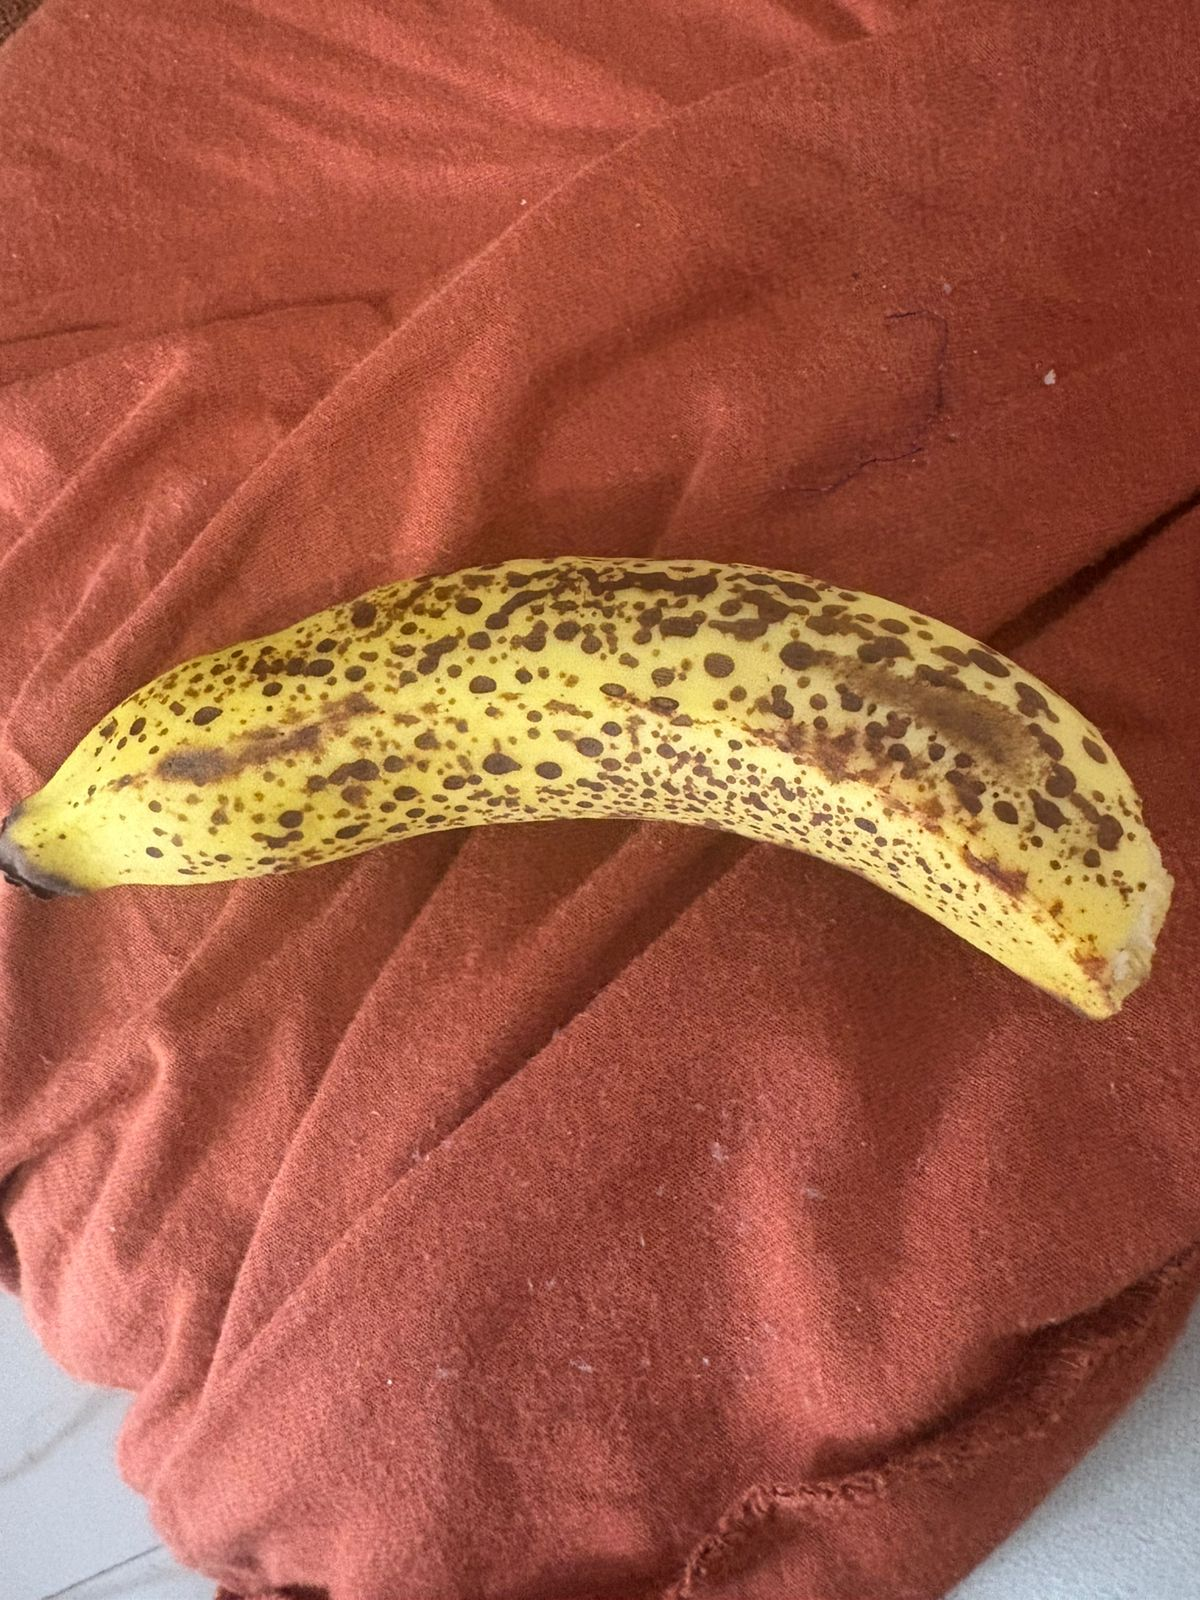wet: (32, 587, 1172, 1017)
